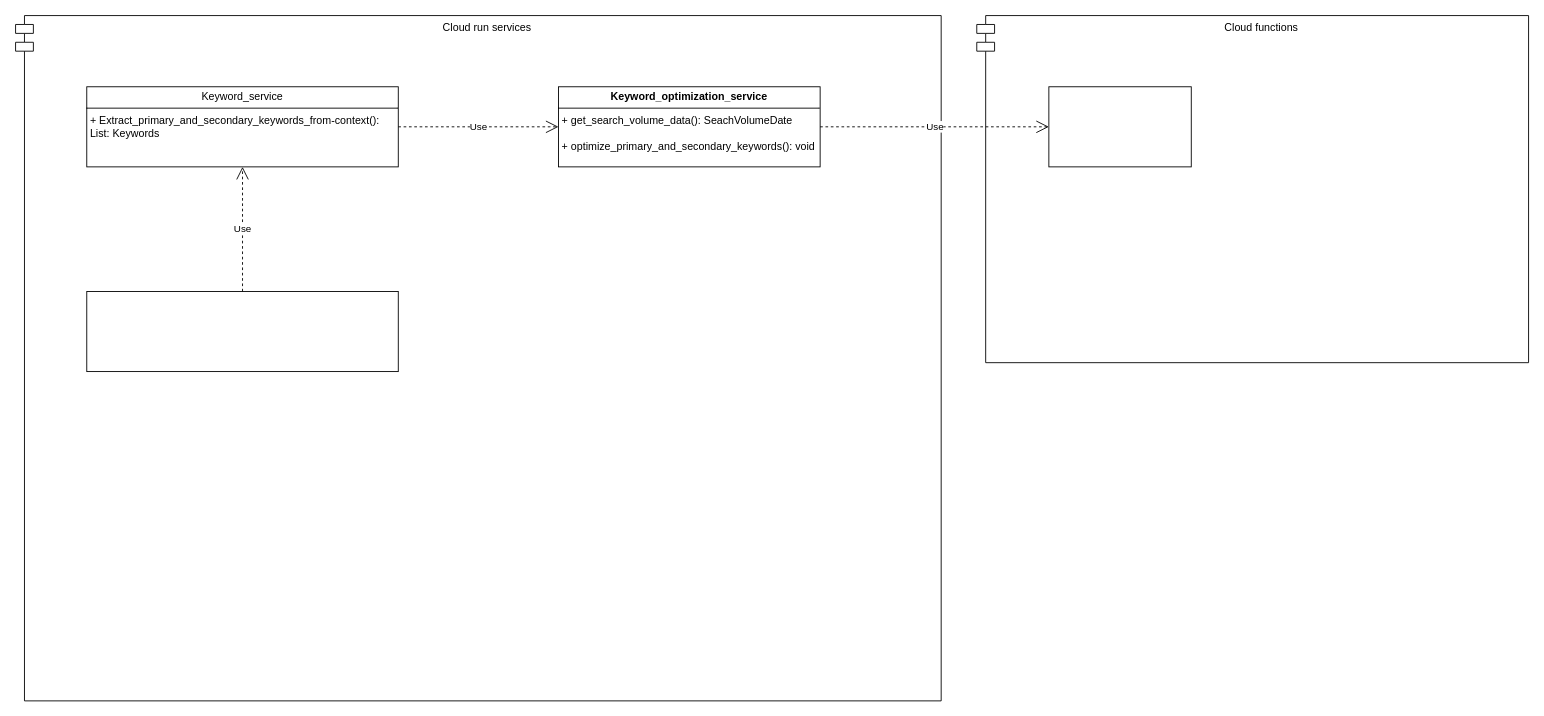
Image size: 1544x716. Some labels were removed from this diagram. The shapes that lost their labels are listed below. From the top down, each one's centre as x and y in pixels, then its label:
At point (1119, 126): "SERP_check_service + get_SERP_position_data(): Data".
At point (242, 331): "Scraping_service + get_website_content(): Content".
